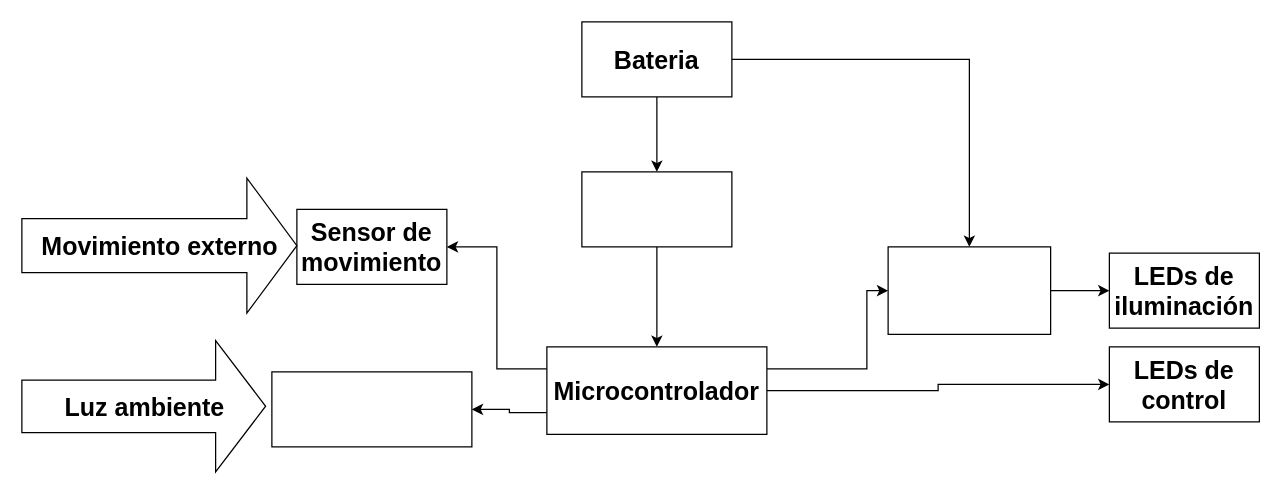
Some shapes in this 1281 by 494 pixel diagram are drawn without their labels. The centre of each missing label's shape, as x and y in pixels:
Fototransistor: pixel 371 409
Regulador de tensión: pixel 656 209
Transistores: pixel 969 290
